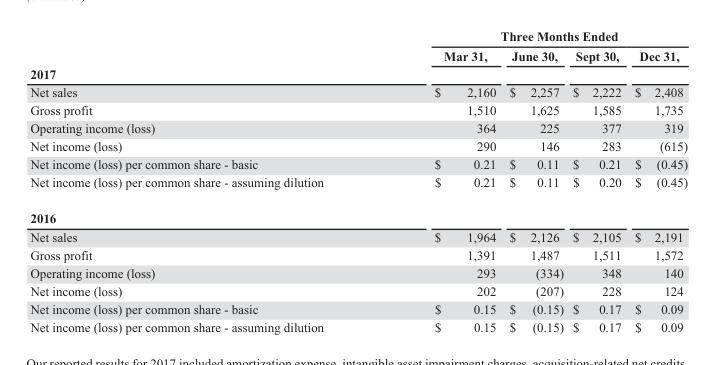table: (29, 28, 687, 333)
table column: (29, 28, 378, 333), (378, 28, 502, 333), (502, 28, 567, 333), (567, 28, 627, 333), (627, 28, 687, 333)
table column header: (29, 28, 687, 64)
table projected row header: (29, 199, 687, 227), (29, 64, 687, 82)
table row: (29, 199, 687, 227), (29, 172, 687, 199), (29, 45, 687, 64), (29, 64, 687, 82), (29, 82, 687, 100), (29, 100, 687, 118), (29, 118, 687, 136), (29, 136, 687, 154), (29, 154, 687, 172), (29, 227, 687, 245), (29, 245, 687, 263), (29, 263, 687, 281), (29, 281, 687, 299), (29, 299, 687, 317), (29, 28, 687, 45), (29, 317, 687, 333)
table spanning cell: (378, 28, 687, 45)
